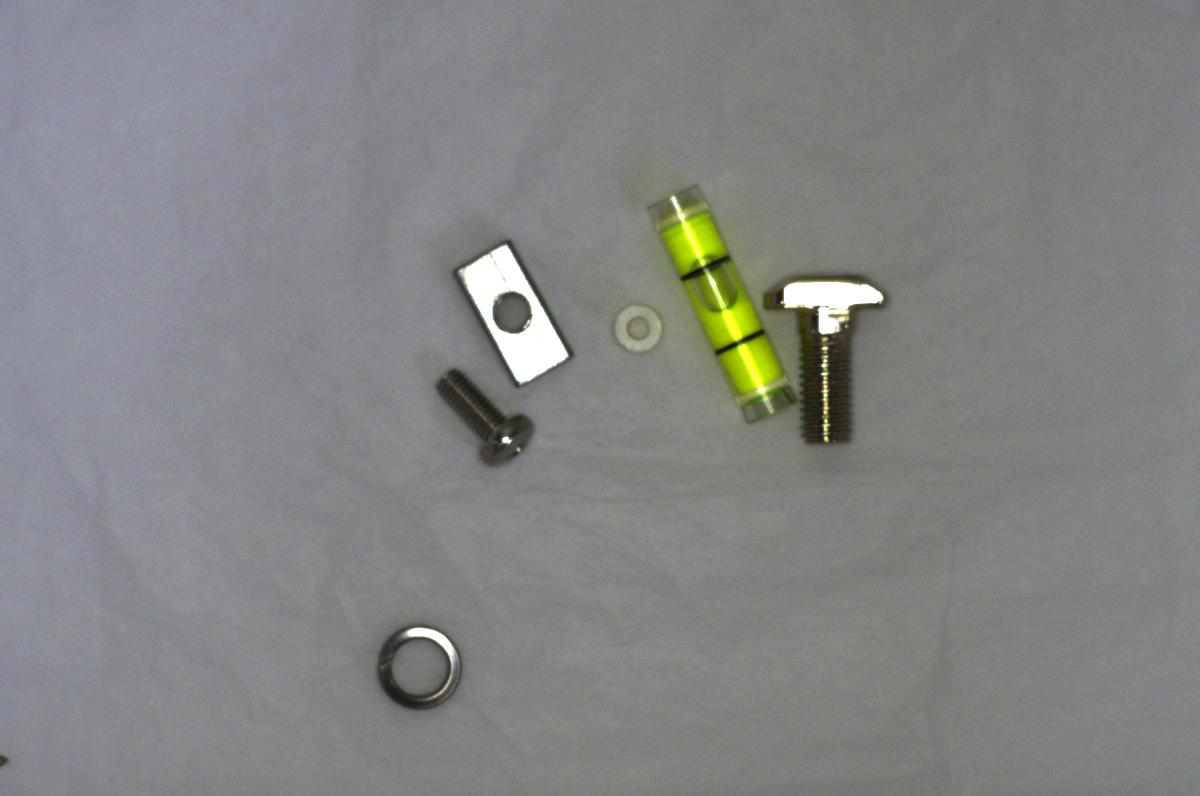Horizontal bubble: (648, 186, 797, 425)
Plastic cushion pillar: (607, 298, 670, 358)
Rectangular nut: (455, 239, 574, 389)
Round head screw: (431, 360, 551, 473)
Spring washer: (371, 618, 471, 718)
T-shaped screw: (765, 266, 892, 445)
